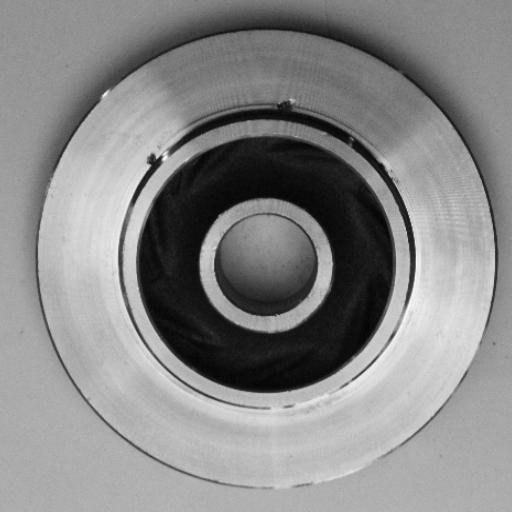crack: (135, 144, 183, 177), (263, 89, 310, 122)
scratch: (264, 386, 347, 418)
unpolished_casting: (35, 27, 497, 490)
